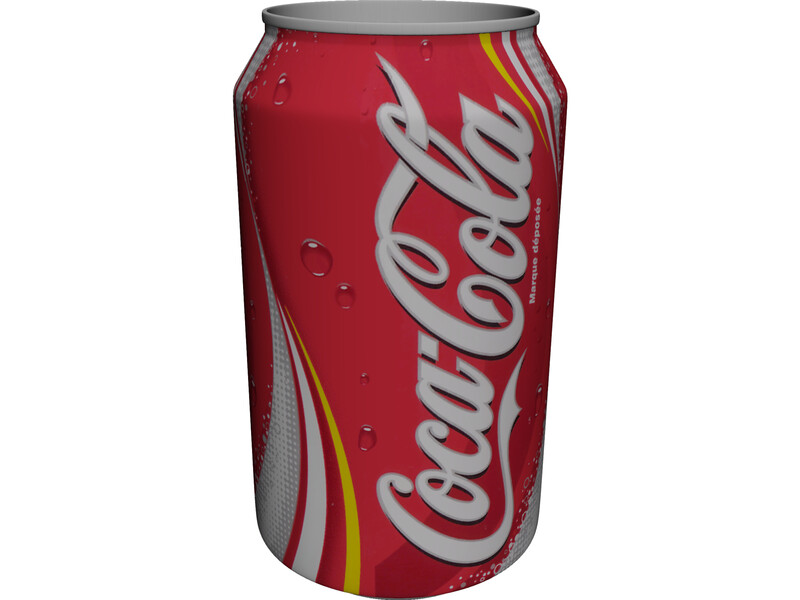coke: (354, 58, 540, 578)
